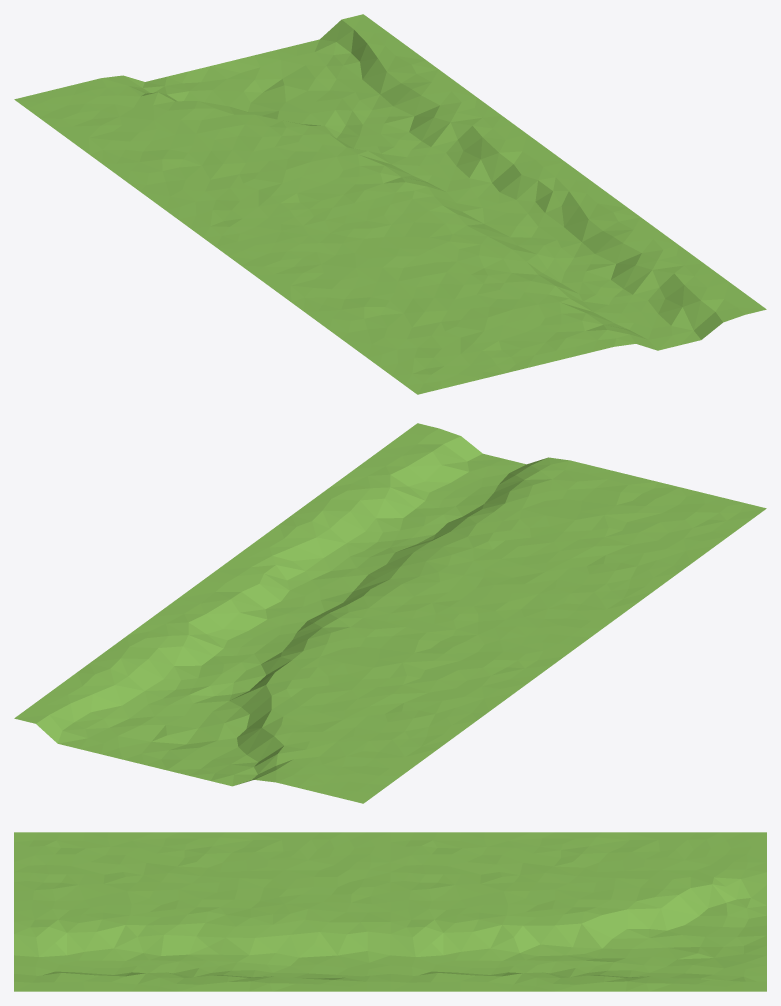
File: MT_River_End_M_b_02_R_LOD.fbx
The picture shows the model from 3 angles, top to bottom: view 1: azimuth 30°, elevation 25°; view 2: azimuth 150°, elevation 25°; view 3: azimuth 270°, elevation 25°; orthographic projection. The views are drawn at different scales.
Visible parts, largest first — view 1: MT_River_End_M_b_02_R_LOD0; view 2: MT_River_End_M_b_02_R_LOD0; view 3: MT_River_End_M_b_02_R_LOD0.
Part boxes in pixels (left/top/right/bottom): MT_River_End_M_b_02_R_LOD0: left=14, top=14, right=766, bottom=394; MT_River_End_M_b_02_R_LOD0: left=14, top=423, right=766, bottom=803; MT_River_End_M_b_02_R_LOD0: left=14, top=832, right=766, bottom=991.
Size of what is drawn, in the model's own units: 50 by 2.69 by 100.
